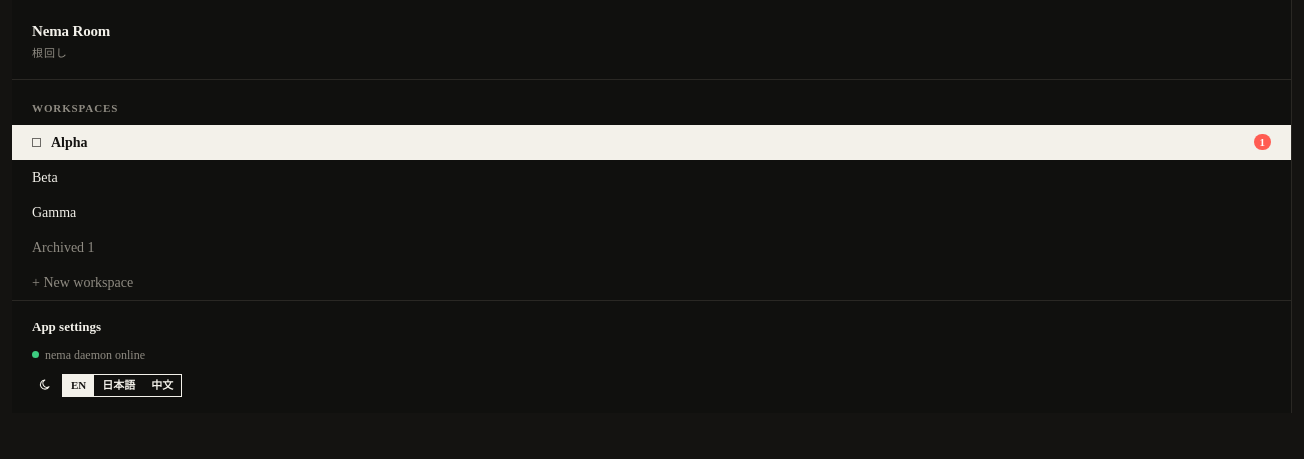
it: Sidebar › shows pending feedback, blocks duplicate submits, and closes after creation
Step 1. Click the button "+ New workspace" → (83, 282), box [12,264,1291,300]
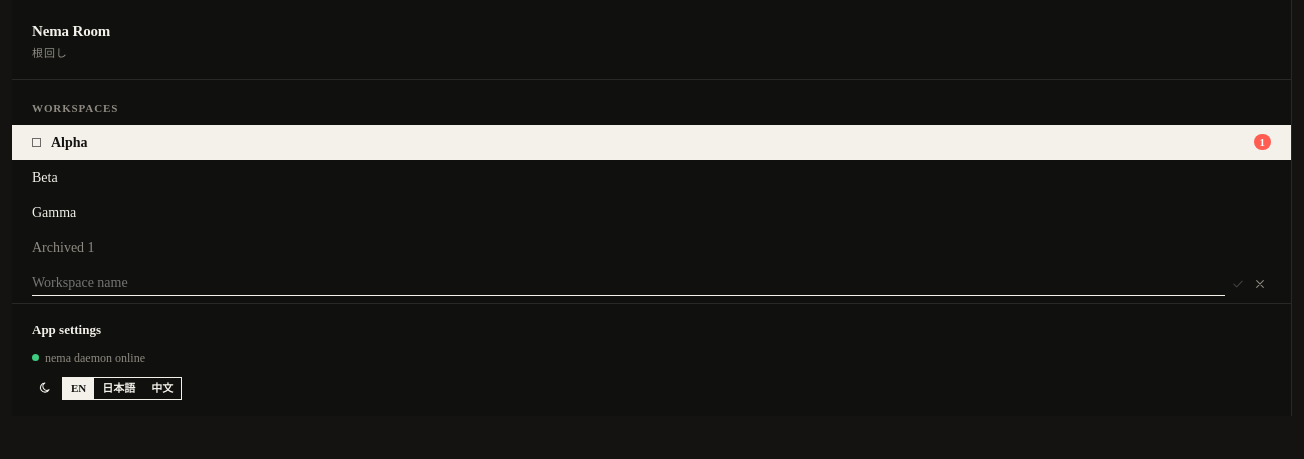
Step 2. Type "Delta" into the field → (628, 284), box [32,272,1225,296]
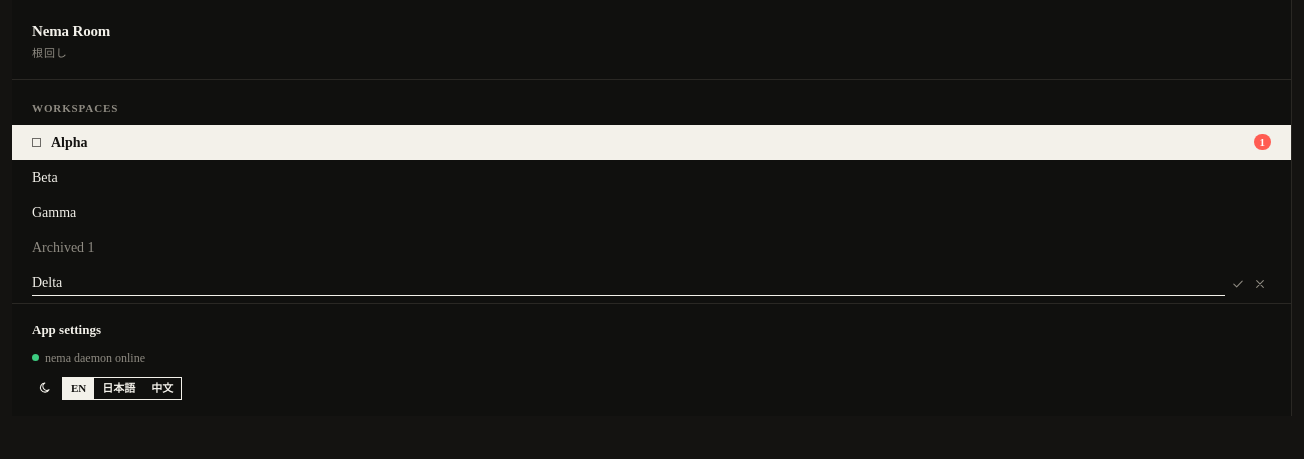
Step 3. Submit the form, box [12,264,1291,302]
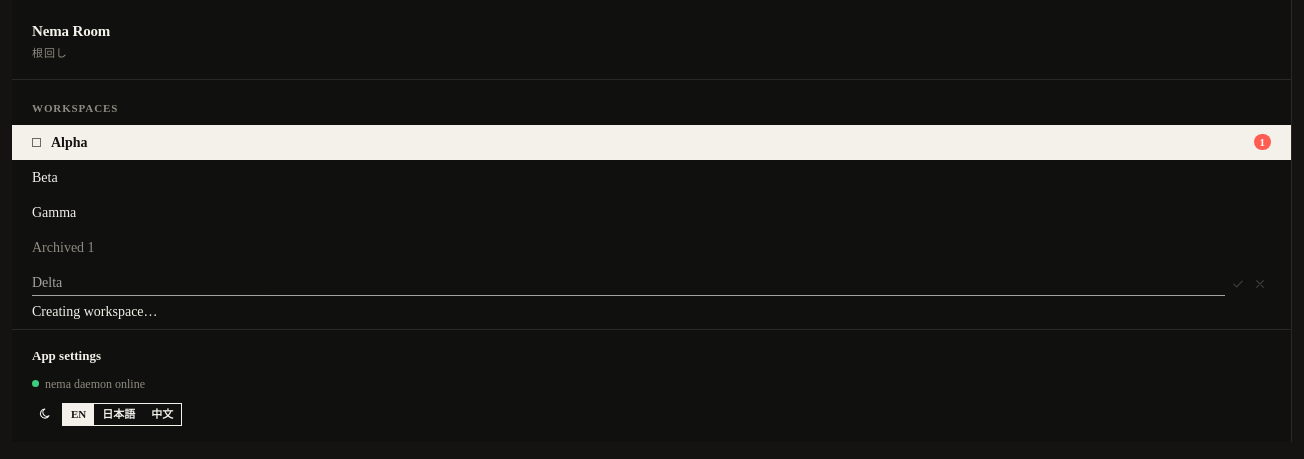
Expected: the message reads "Creating workspace…", [32,304,158,318]
Expected: the field is disabled, [32,272,1225,296]
Expected: the button named "Create workspace" is disabled, [1227,272,1249,294]
Step 4. Submit the form, box [12,264,1291,328]
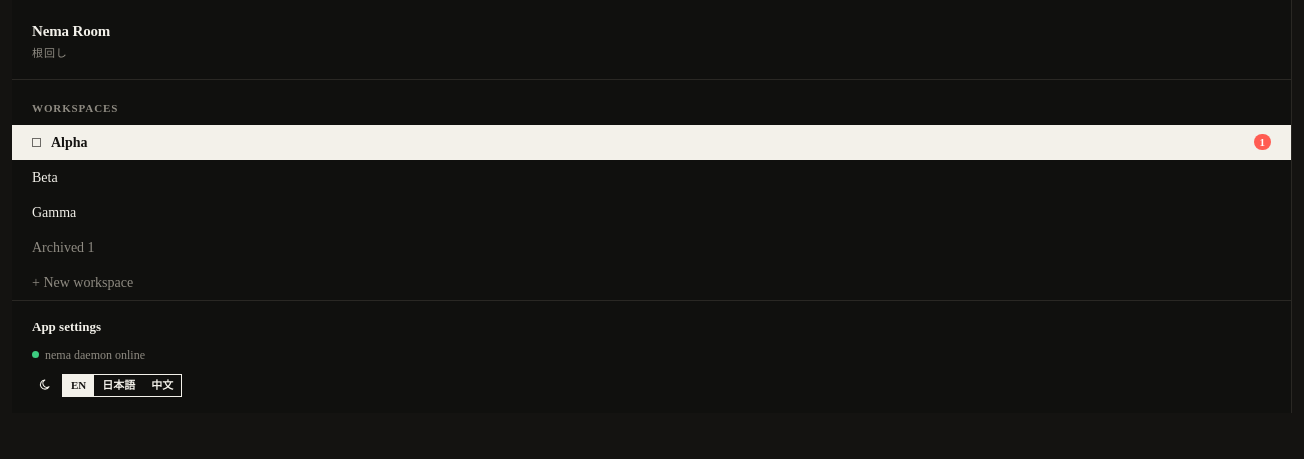
Expected: the button "+ New workspace" is shown, [12,264,1291,300]
